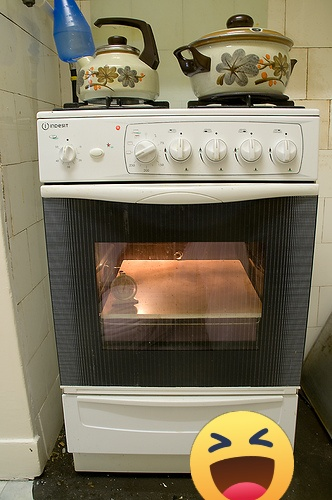haha: (190, 411, 294, 500)
